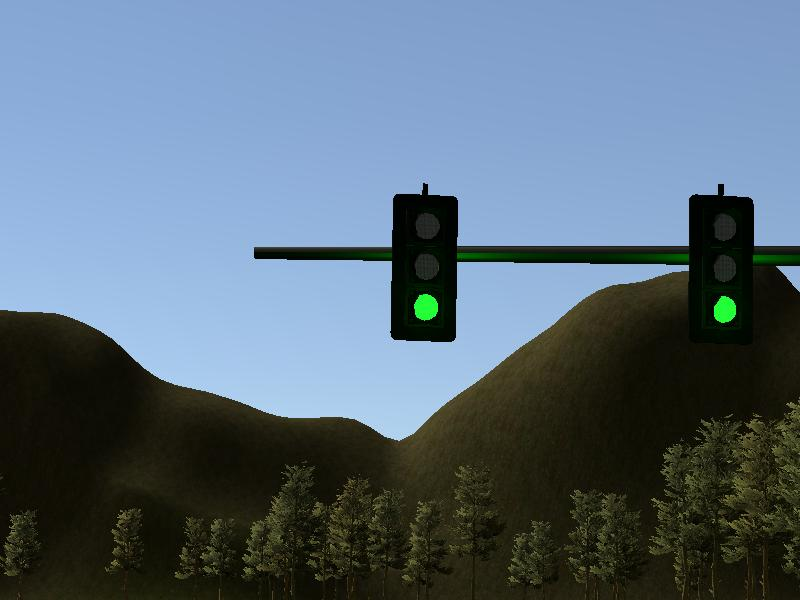Green: (689, 195, 751, 344), (393, 194, 455, 340)
